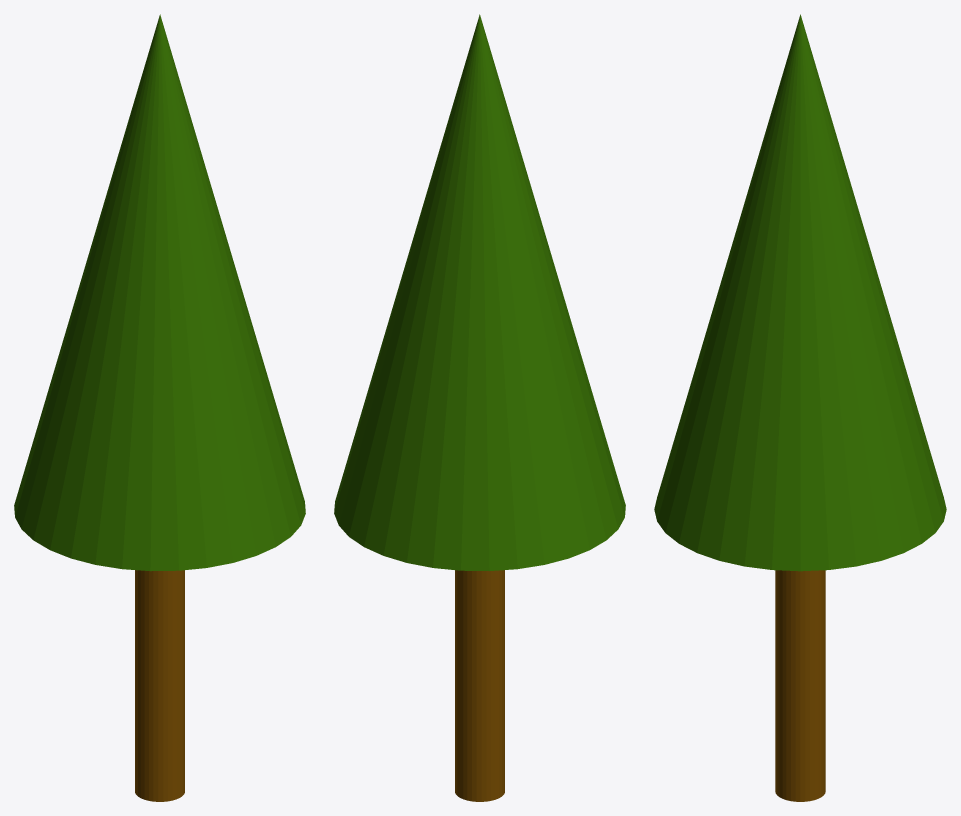
Rendered from Tree.glb.
The picture shows the model from 3 angles, left to right: view 1: azimuth 30°, elevation 25°; view 2: azimuth 150°, elevation 25°; view 3: azimuth 270°, elevation 25°; orthographic projection.
Visible parts, largest first — view 1: Cone; view 2: Cone; view 3: Cone.
Boxes of the visible parts, x1,y1,x2,y2 form: Cone: [14, 14, 305, 801]; Cone: [334, 14, 625, 801]; Cone: [654, 14, 946, 801].
Size of the model in its own units: 1.64 by 4.82 by 1.64.
